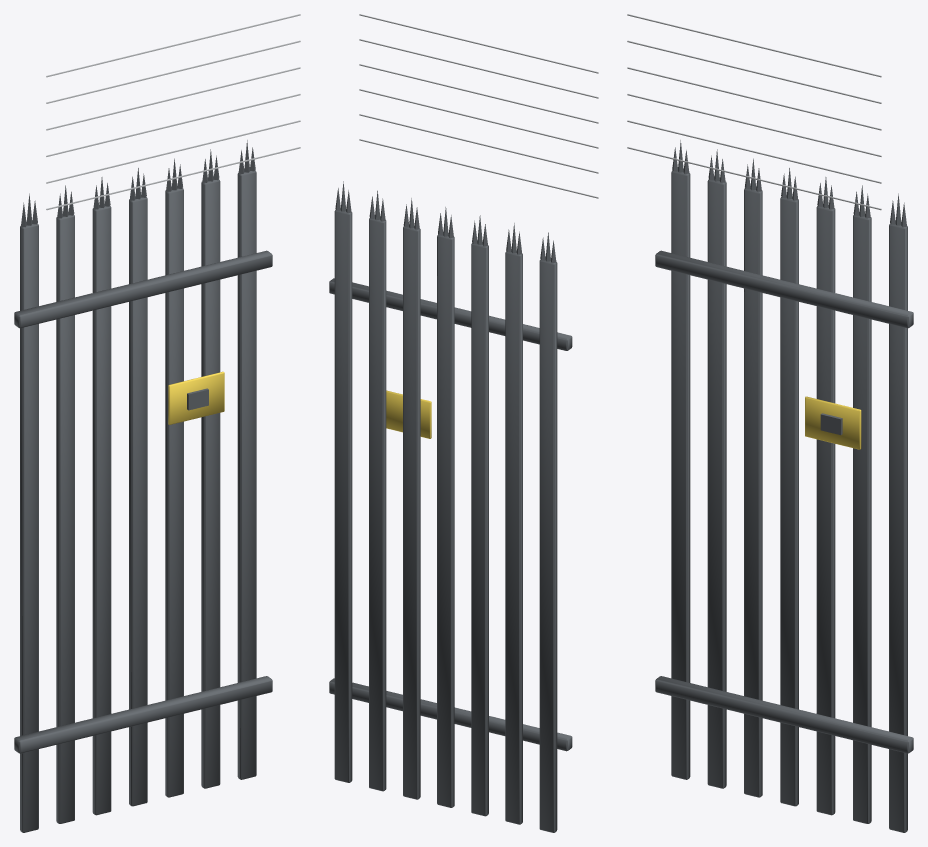
Rendered from fence_electric_panel.glb.
The picture shows the model from 3 angles, left to right: view 1: azimuth 30°, elevation 25°; view 2: azimuth 150°, elevation 25°; view 3: azimuth 330°, elevation 25°; orthographic projection. The views are drawn at different scales.
Parts seen in each view (by area): view 1: Body; view 2: Body; view 3: Body.
Part boxes in pixels (<box>): Body: <box>14,14,300,832</box>; Body: <box>329,14,598,832</box>; Body: <box>627,14,913,832</box>.
Bounding box in the file's own units: 1 × 2.95 × 0.2545.
